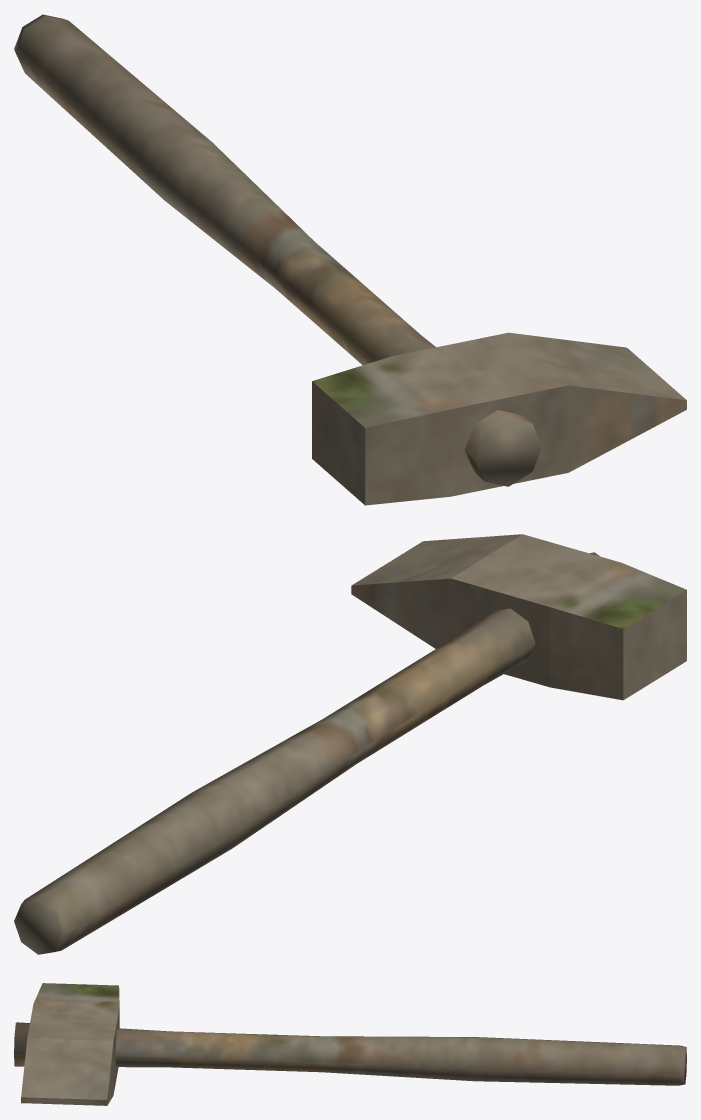
The model's file is hammer.fbx.
The picture shows the model from 3 angles, top to bottom: view 1: azimuth 30°, elevation 25°; view 2: azimuth 150°, elevation 25°; view 3: azimuth 270°, elevation 25°; orthographic projection. The views are drawn at different scales.
Visible parts, largest first — view 1: Cylinder.056; view 2: Cylinder.056; view 3: Cylinder.056.
Boxes of the visible parts, x1,y1,x2,y2 form: Cylinder.056: (14,14,686,505); Cylinder.056: (14,534,686,954); Cylinder.056: (14,983,686,1105).
Size of the model in its own units: 16.08 by 4.28 by 47.81.
